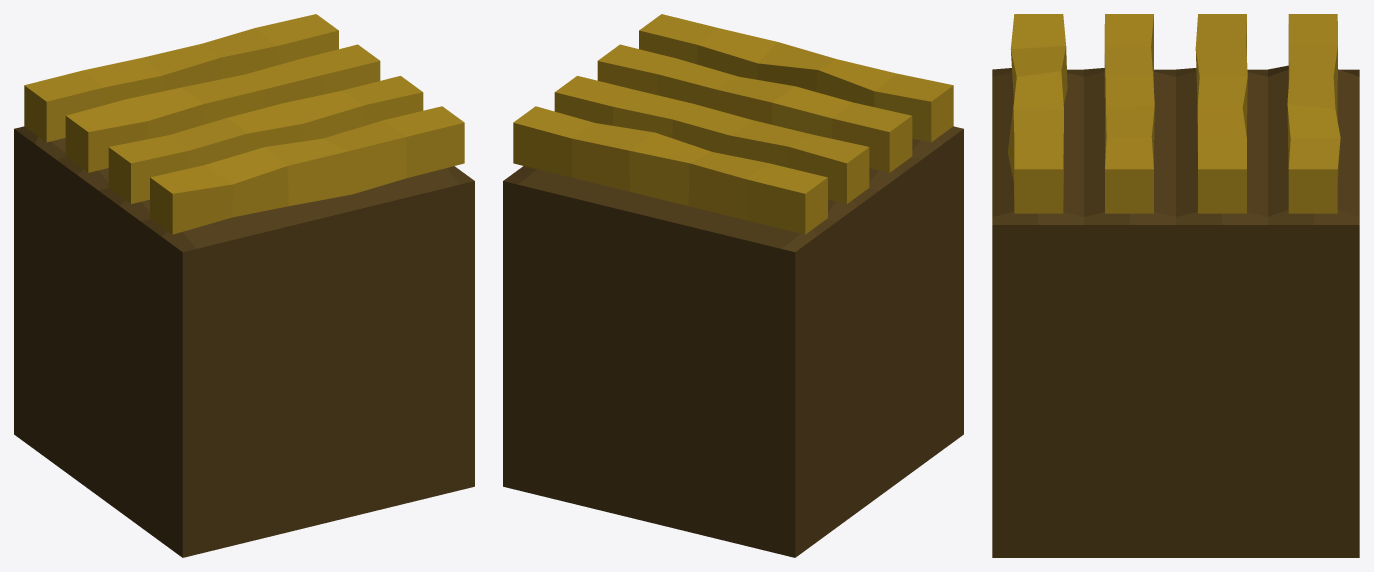
The model's file is crops-2.gltf.
3 renders of one model, left to right at view 1: azimuth 30°, elevation 25°; view 2: azimuth 150°, elevation 25°; view 3: azimuth 270°, elevation 25°, orthographic. The views are drawn at different scales.
Parts seen in each view (by area): view 1: Plane.001; view 2: Plane.001; view 3: Plane.001.
Boxes of the visible parts, x1,y1,x2,y2 form: Plane.001: (14, 14, 474, 557); Plane.001: (503, 14, 963, 557); Plane.001: (992, 14, 1359, 557).
Bounding box in the file's own units: 1 × 1.18 × 1.
Materials: 1 (1 with a texture image).
